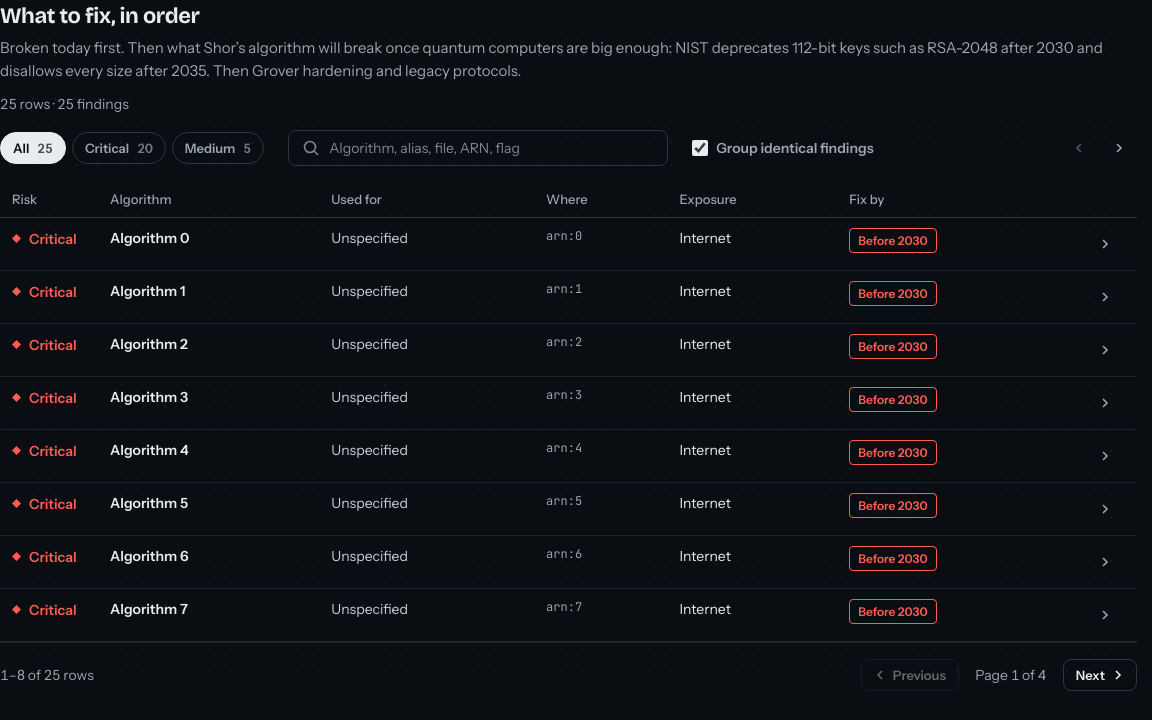
Test: FindingsTable › opens a row in a panel that steps through rows and pages with them
Click the button named "Open details for Algorithm 7 at arn:7". click: coordinates (1105, 615)
box: [1089,599,1121,631]
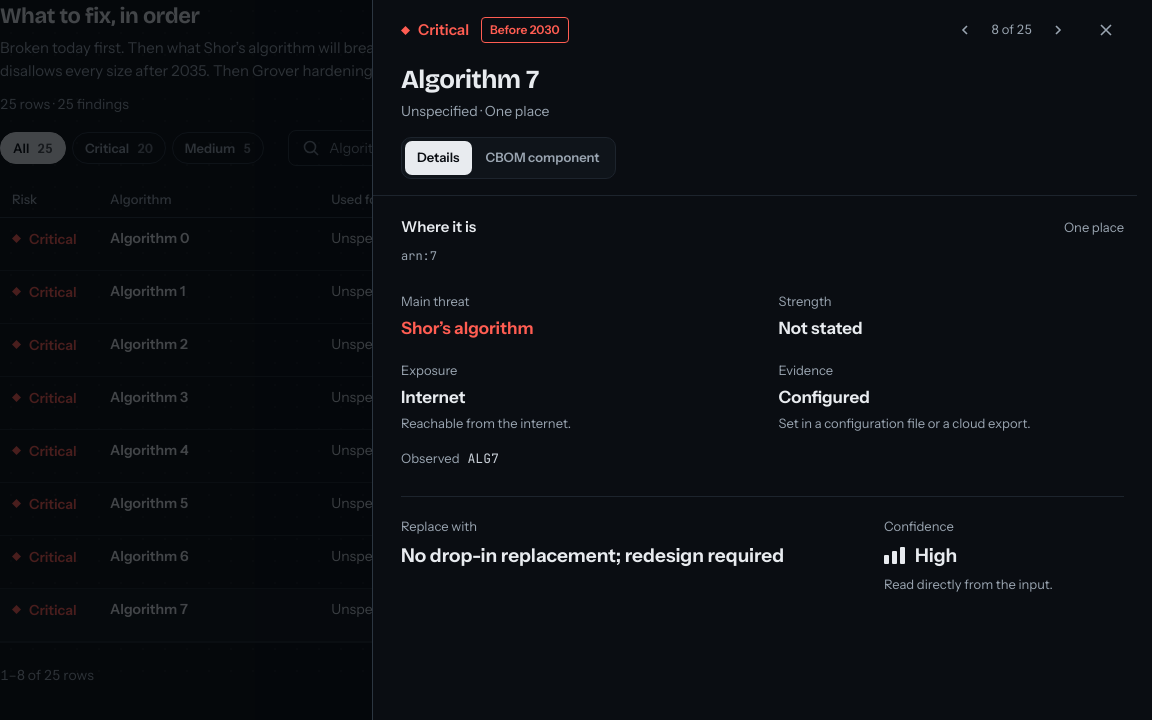
Expected: the text "8 of 25" is shown, [991,21,1032,37]
Click the button named "Next finding". click: coordinates (1058, 30)
box: [1040,12,1076,48]
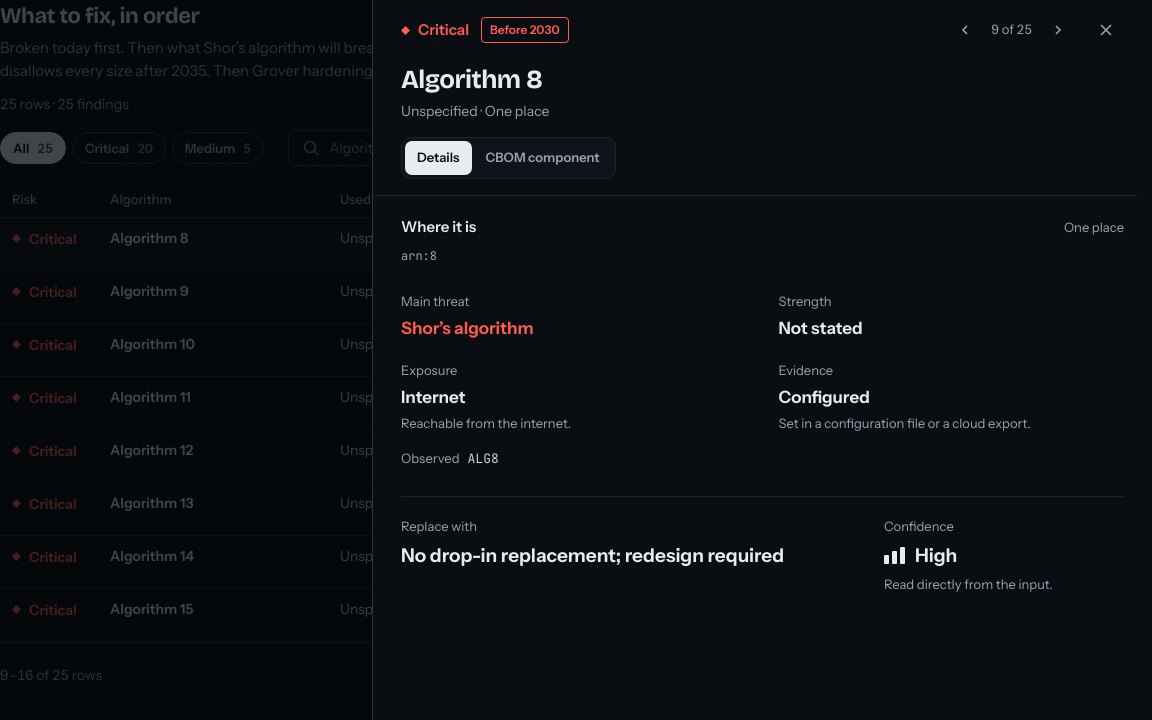
Expected: the text "9 of 25" is shown, [991,21,1032,37]
Press ArrowLeft in the dialog
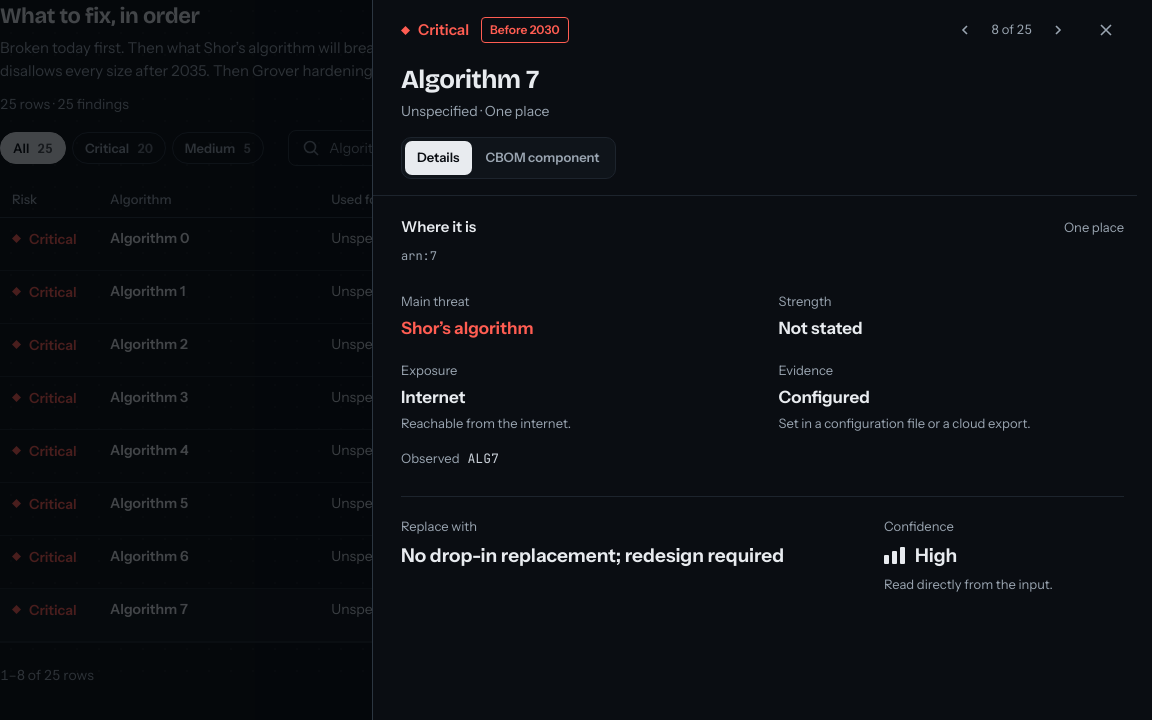
Expected: the text "8 of 25" is shown, [991,21,1032,37]
Click the button named "Close". click: coordinates (1106, 30)
box: [1088,12,1124,48]
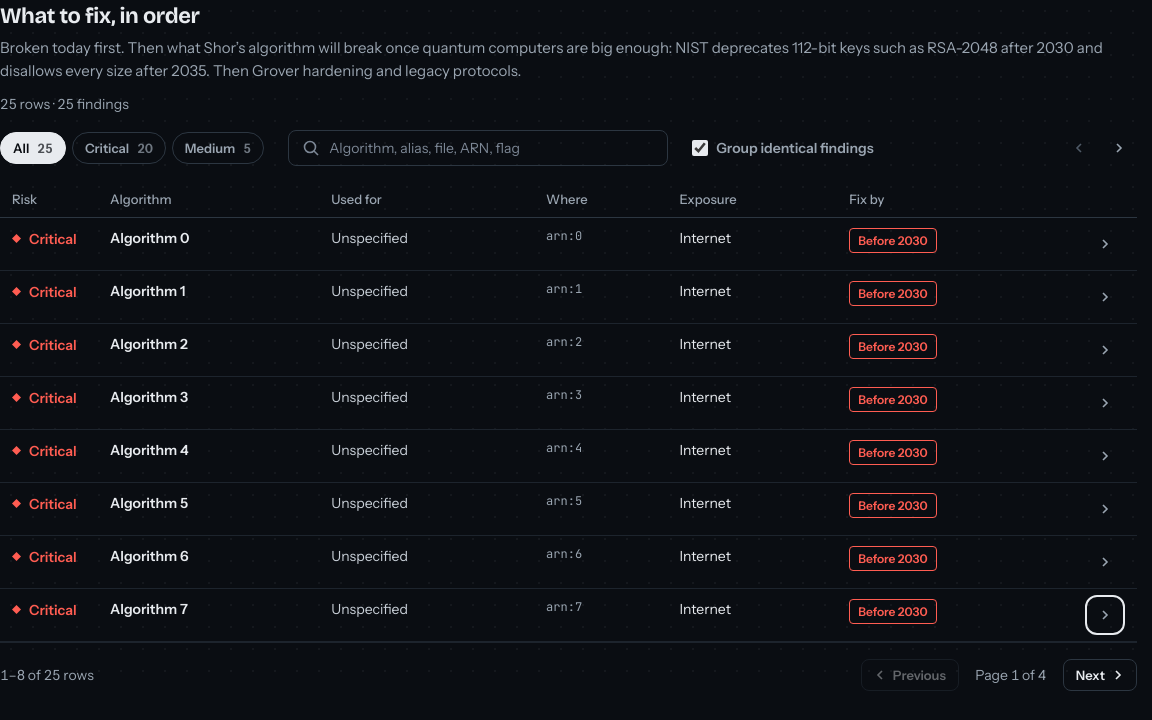
Expected: the dialog is gone
